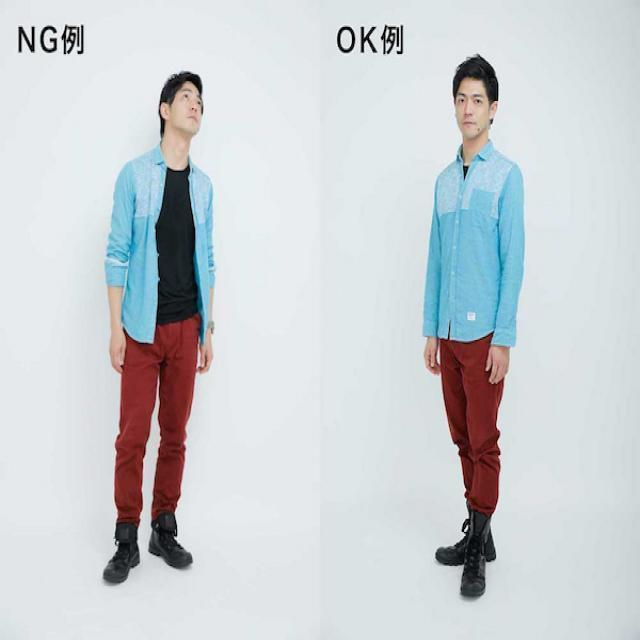direk: (98, 66, 225, 586), (420, 52, 528, 604)
